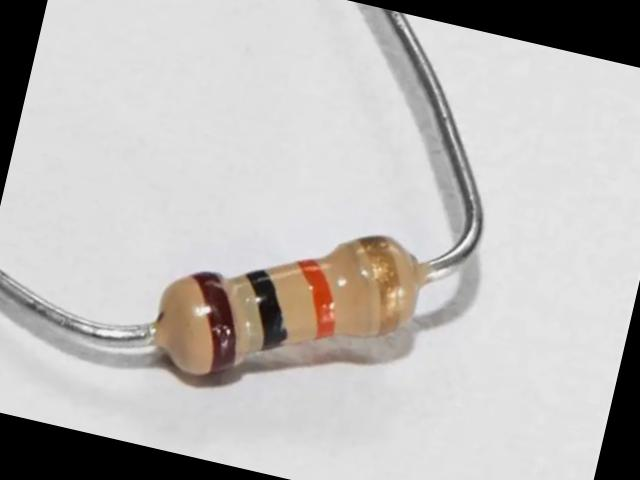black: (244, 265, 290, 352)
brown: (185, 271, 236, 374)
gold: (353, 231, 406, 339)
orange: (296, 254, 337, 341)
resistor: (134, 206, 455, 406)
